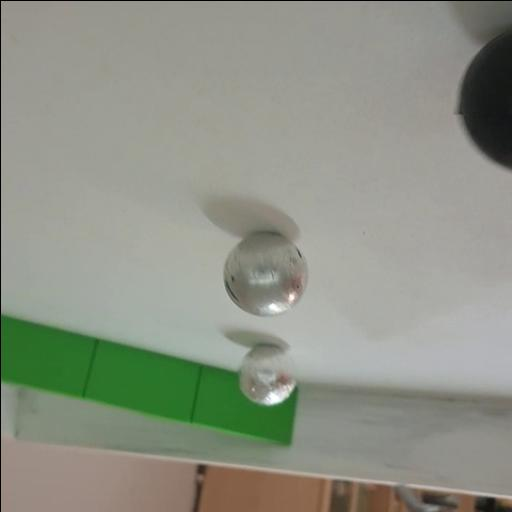alive: (222, 230, 306, 316), (239, 344, 296, 406)
dead: (456, 27, 510, 173)
